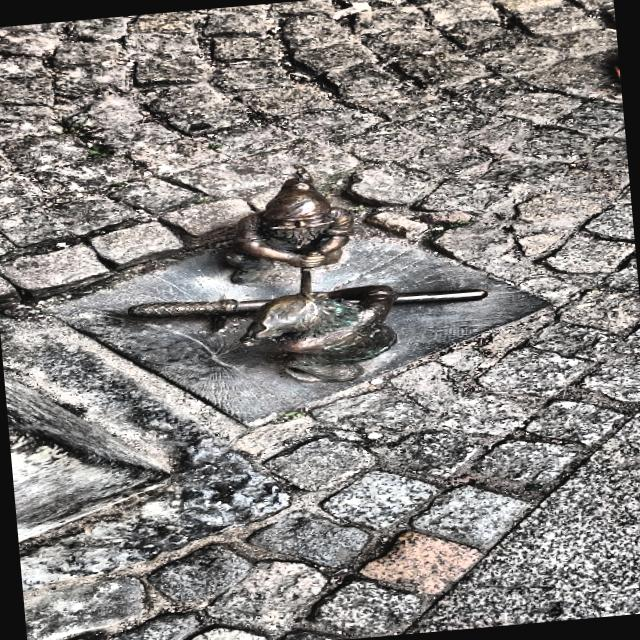Wyrostek i Zadymek: (128, 166, 487, 381)
